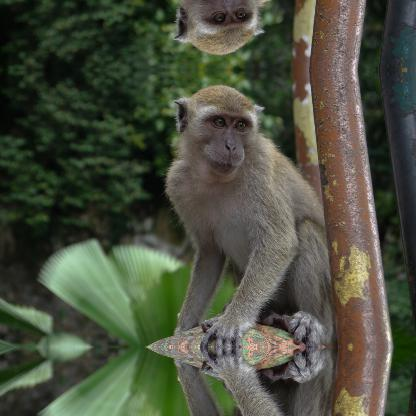Monkey: (151, 86, 337, 338), (151, 354, 338, 415), (151, 0, 338, 52)
